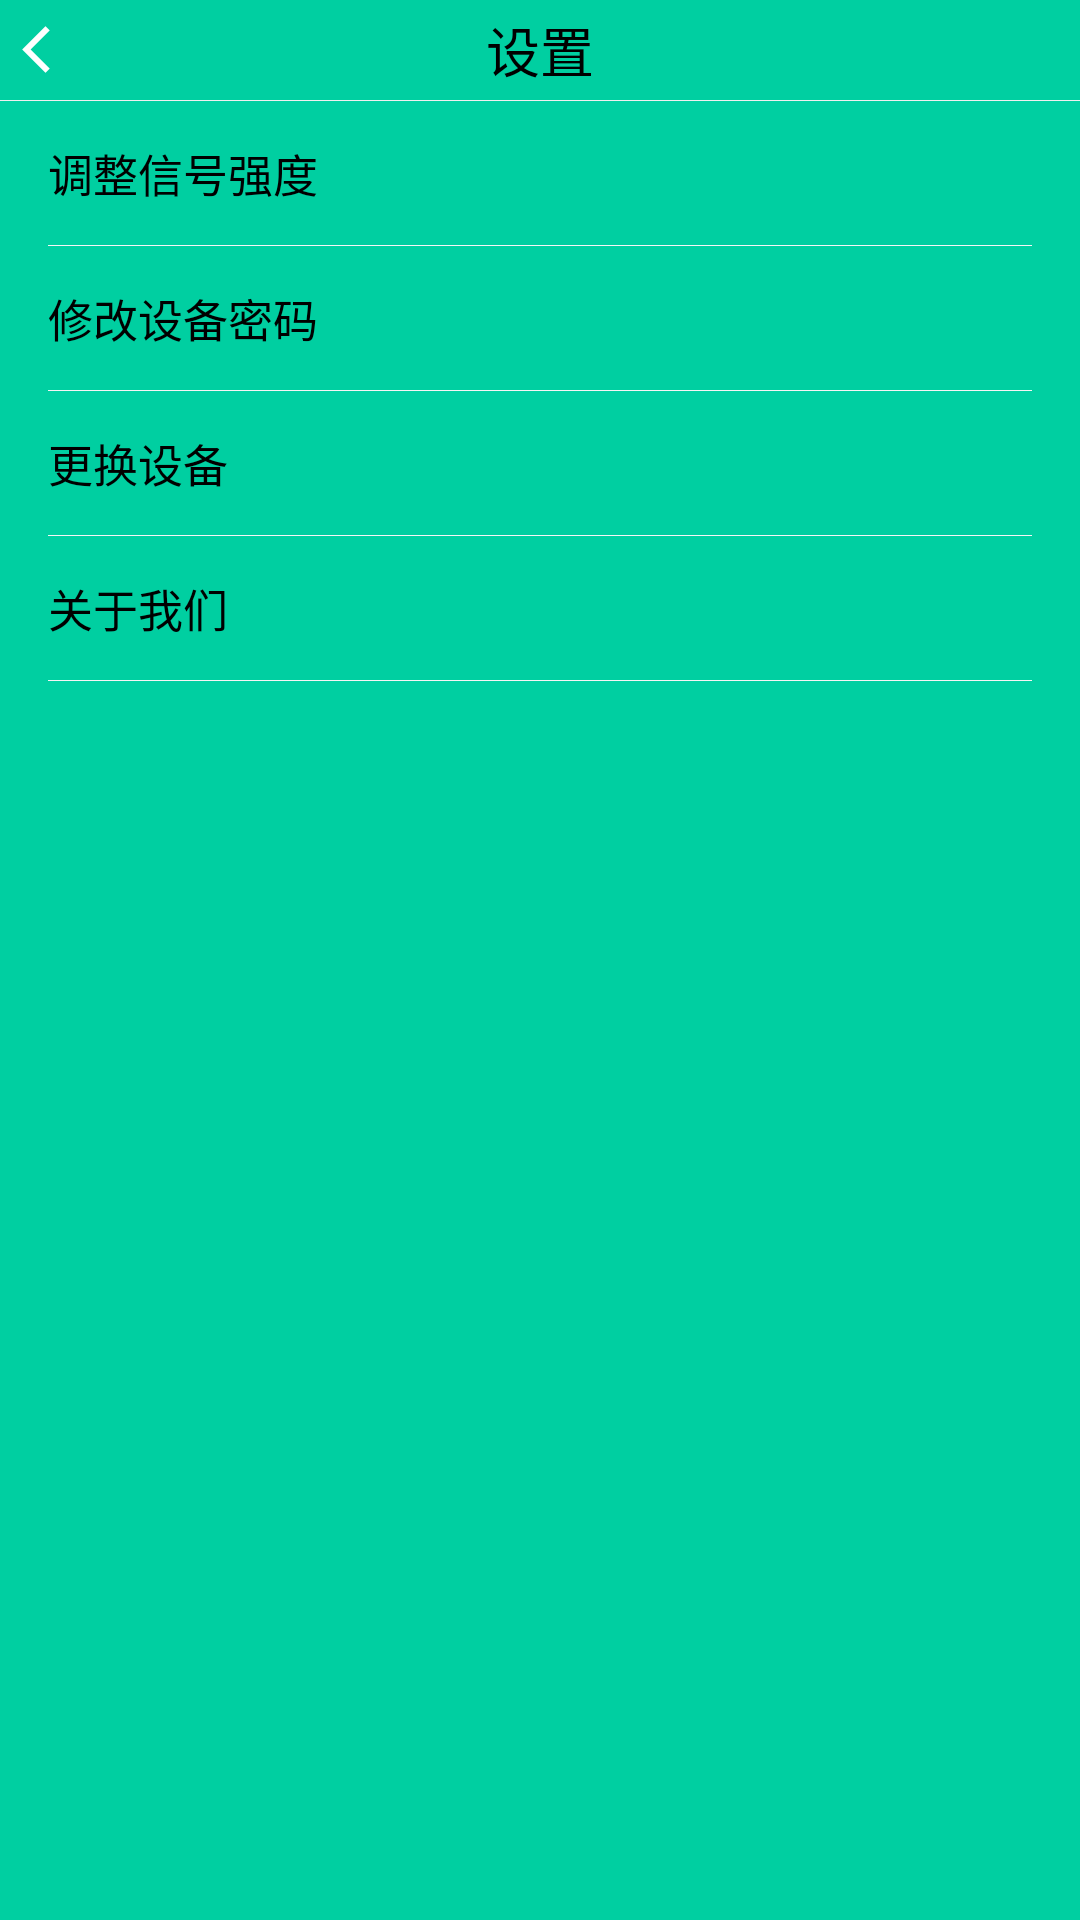

Screen size 1080w x 1920h. Icon name, then its center in pixels as (x=x, y=y):
channeldt back: (x=36, y=49)
